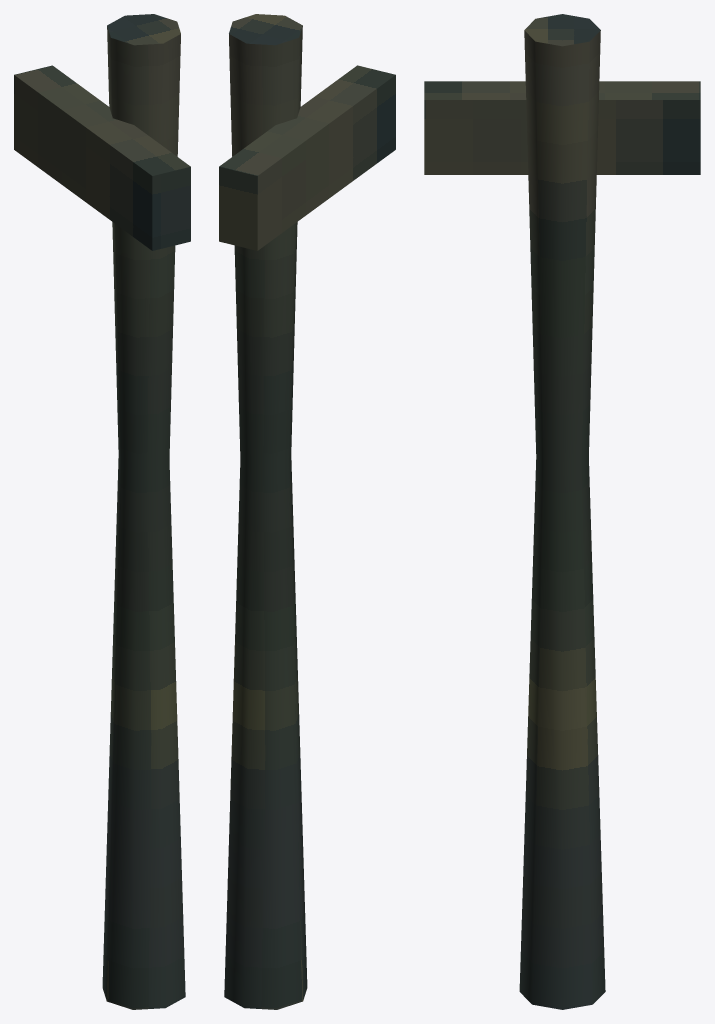
Rendered from pole_01.FBX.
The picture shows the model from 3 angles, left to right: view 1: azimuth 30°, elevation 25°; view 2: azimuth 150°, elevation 25°; view 3: azimuth 270°, elevation 25°; orthographic projection.
Parts seen in each view (by area): view 1: Cylinder001; view 2: Cylinder001; view 3: Cylinder001.
Part boxes in pixels (left/top/right/bottom): Cylinder001: left=14, top=14, right=190, bottom=1009; Cylinder001: left=219, top=14, right=395, bottom=1009; Cylinder001: left=424, top=14, right=700, bottom=1009.
Bounding box in the file's own units: 39.55 × 371 × 96.55.
